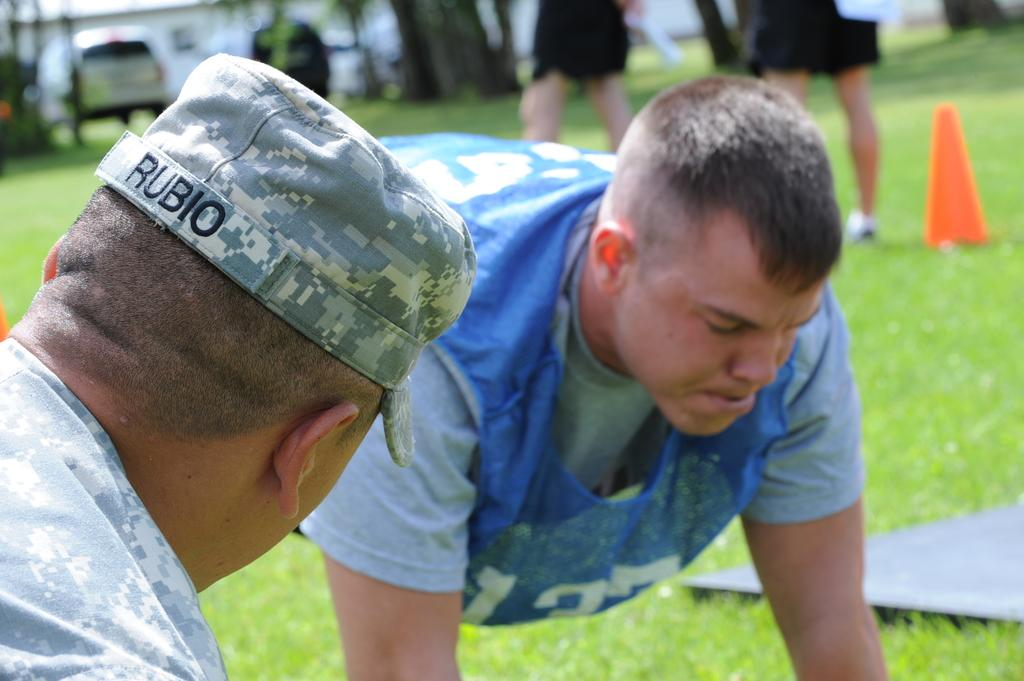Hat: (94, 48, 476, 465)
